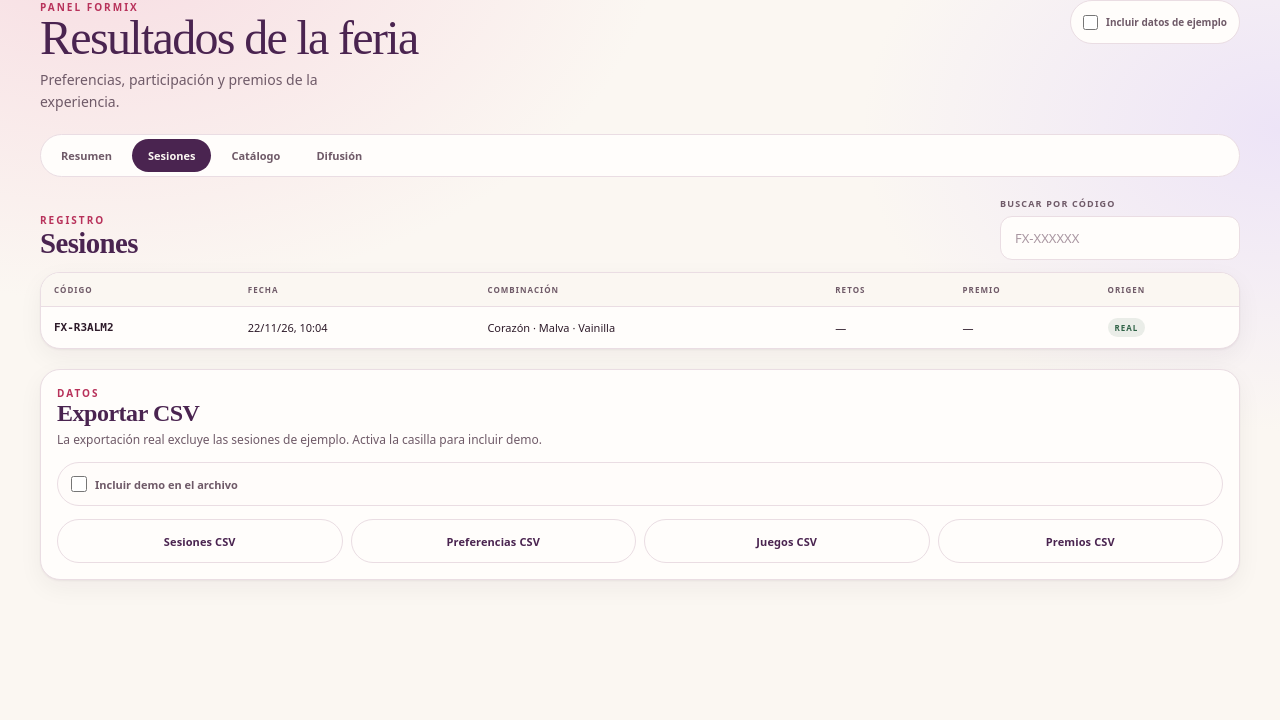
Test: sessions table filters by code and shows origin
The width and height of the screenshot is (1280, 720).
Click the checkbox labelled "Incluir datos de ejemplo". click: (1090, 22)
box: [1083, 14, 1098, 30]
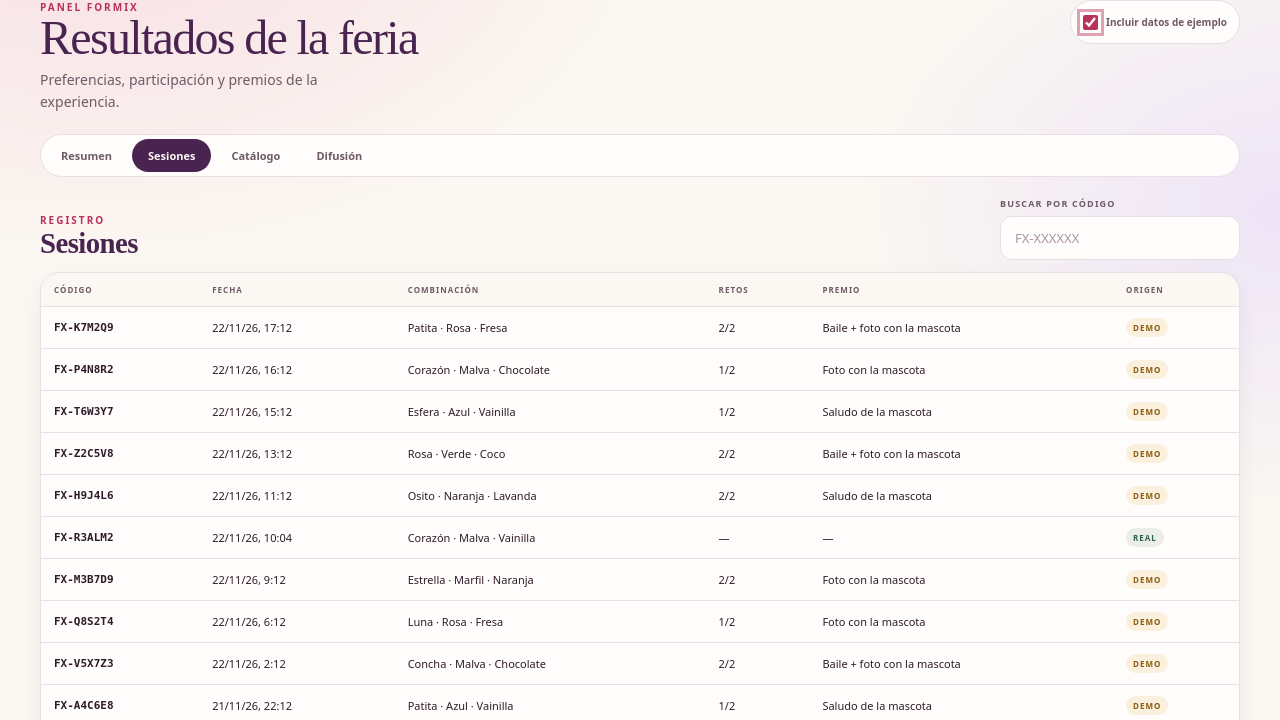
Expected: the text "FX-R3ALM2" is shown, [41, 516, 199, 558]
Expected: the text "FX-K7M2Q9" is shown, [41, 306, 199, 348]
Expected: the text "Demo" in the row of "FX-K7M2Q9" is shown, [1133, 322, 1161, 333]
Type "R3AL" into the search field labelled "Buscar por código". click: (1120, 238)
box: [1000, 216, 1240, 260]
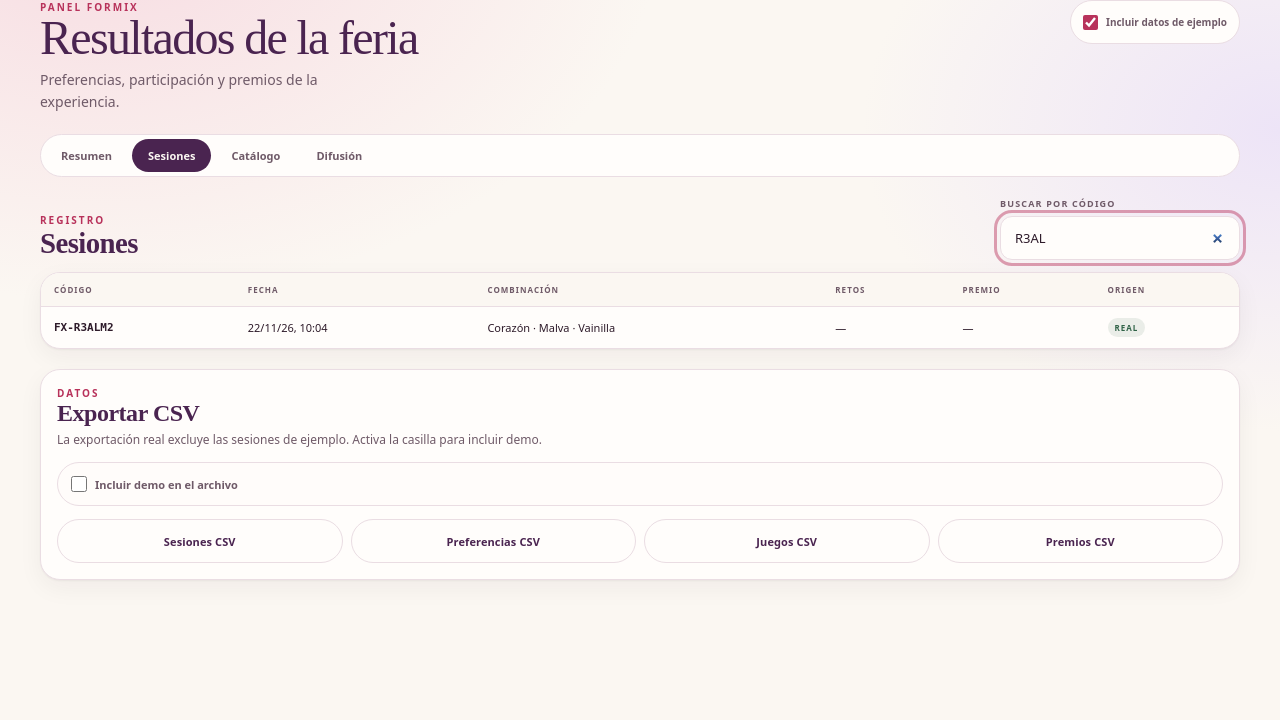
Expected: the text "FX-R3ALM2" is shown, [41, 306, 235, 348]
Expected: the text "FX-K7M2Q9" is gone
